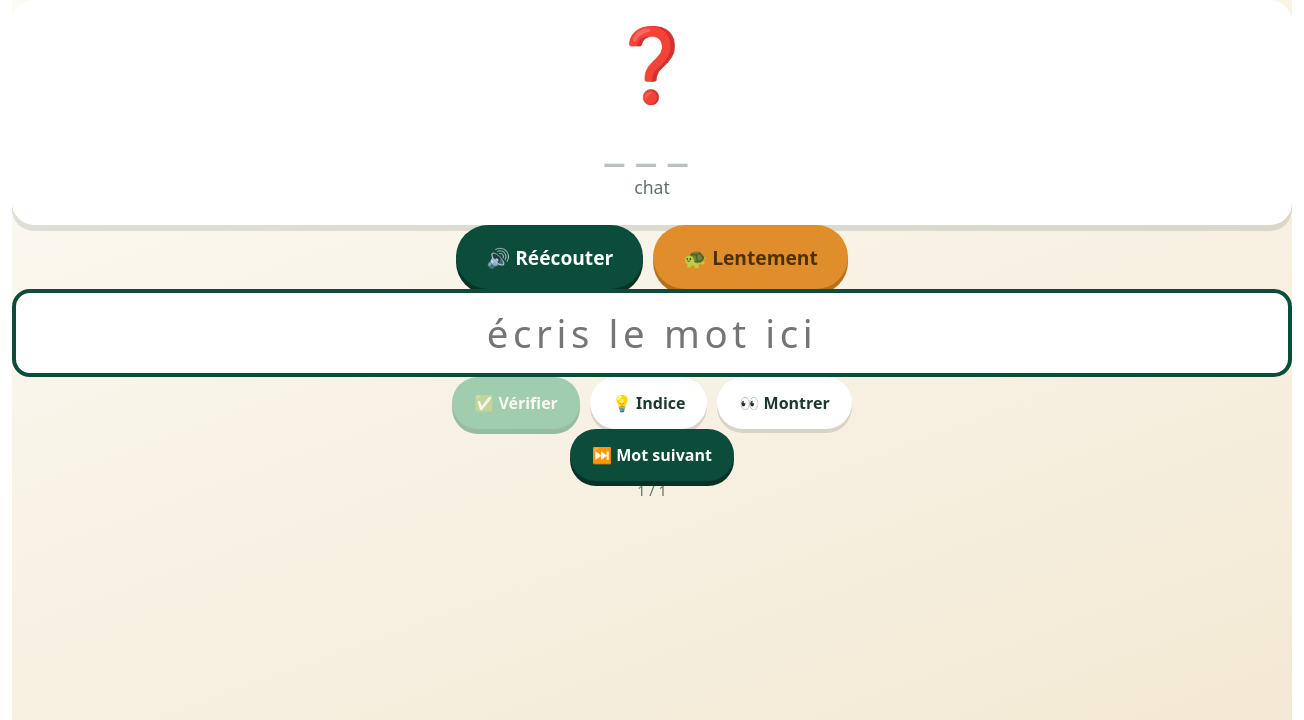
Test: DictationScreen › reveals the word when the child is stuck
The width and height of the screenshot is (1304, 720).
Click the button "👀 Montrer" at (785, 403), box [718,377,852,429]
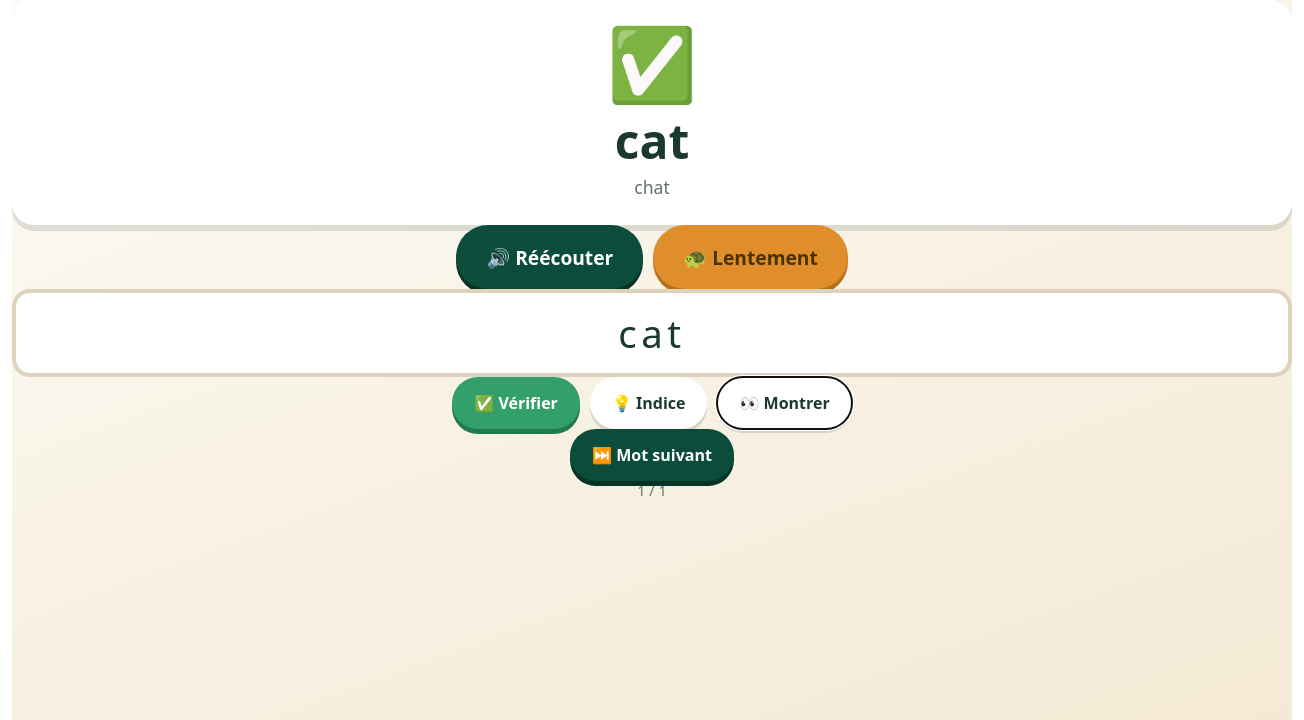
Expected: the text "cat" is shown, [615,108,689,173]
